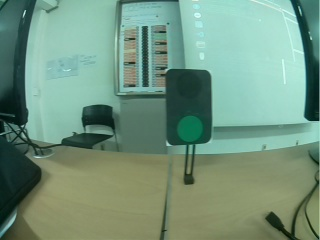green_light: (165, 69, 213, 149)
